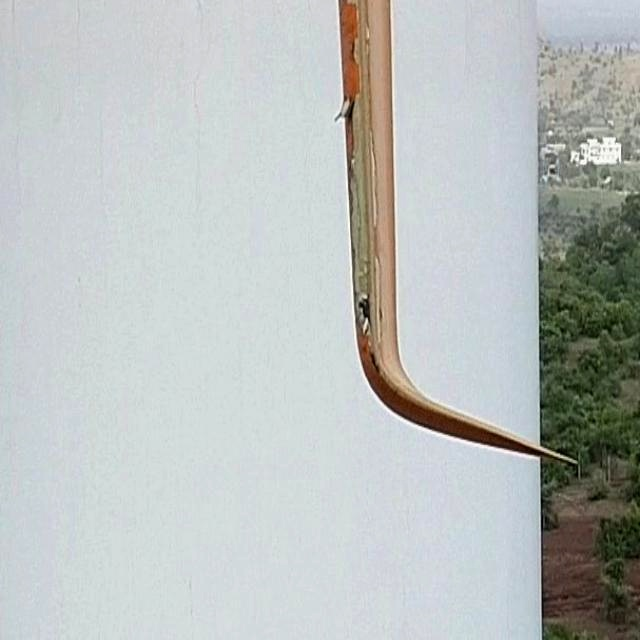EROSION: (349, 154, 390, 371)
